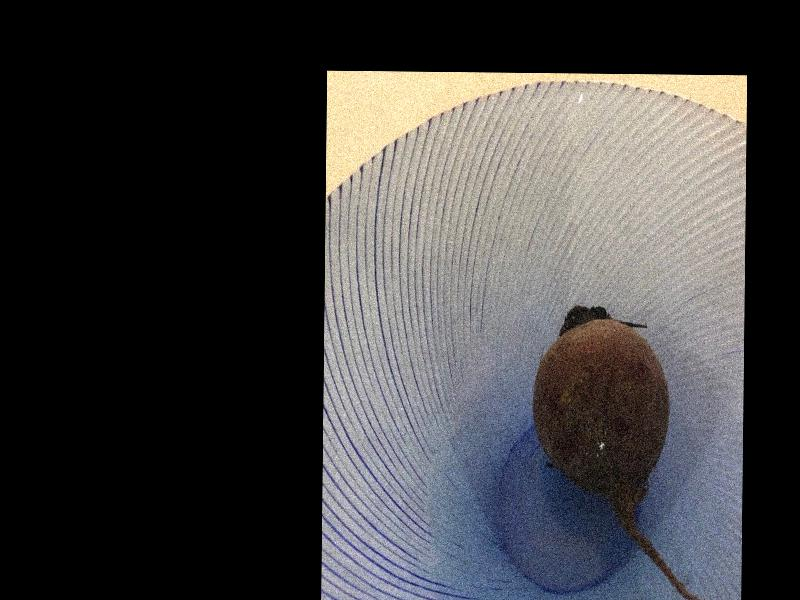Beet: (530, 303, 744, 600)
